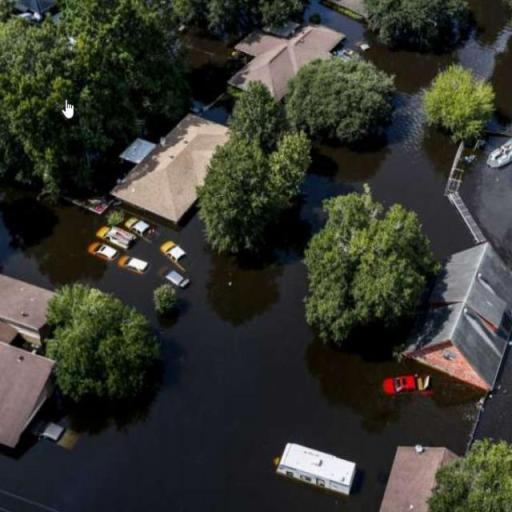flood: (0, 0, 512, 512), (400, 346, 512, 456), (461, 136, 512, 268)
house: (416, 239, 512, 389), (104, 120, 230, 230), (235, 23, 344, 100), (0, 335, 58, 462), (272, 442, 356, 501), (378, 441, 444, 512)
